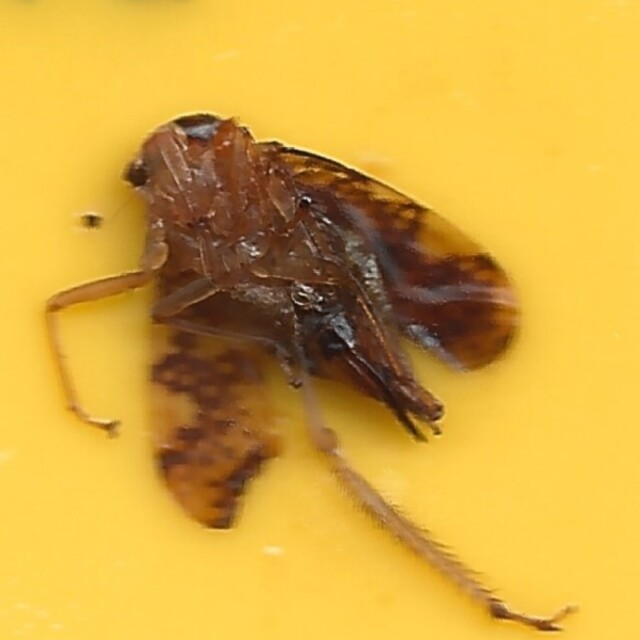Hemiptera: (107, 107, 533, 533)
